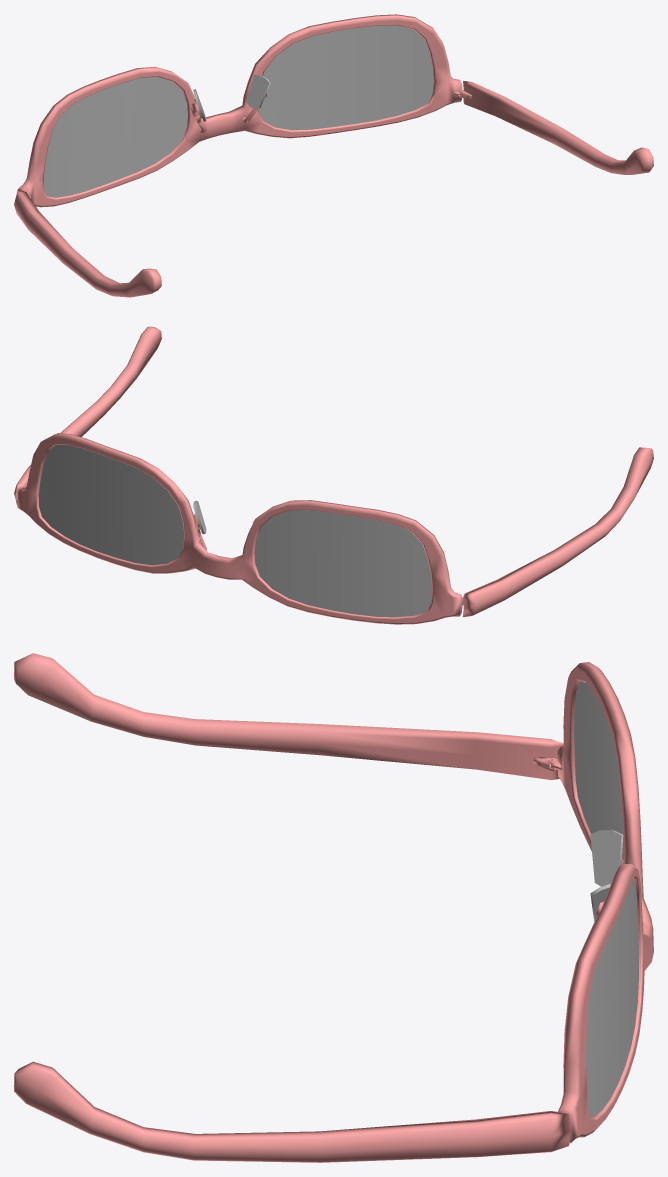
Rendered from kao_megane_02.dae.
3 renders of one model, top to bottom at view 1: azimuth 30°, elevation 25°; view 2: azimuth 150°, elevation 25°; view 3: azimuth 270°, elevation 25°, orthographic. The views are drawn at different scales.
Parts seen in each view (by area): view 1: o_glasses_typeD_lens_0, o_glasses_typeD_00_0; view 2: o_glasses_typeD_lens_0, o_glasses_typeD_00_0; view 3: o_glasses_typeD_00_0, o_glasses_typeD_lens_0.
Boxes of the visible parts, x1,y1,x2,y2 form: o_glasses_typeD_lens_0: (44,25,433,197); o_glasses_typeD_00_0: (14,14,653,297); o_glasses_typeD_lens_0: (38,444,432,617); o_glasses_typeD_00_0: (14,326,653,624); o_glasses_typeD_00_0: (14,653,653,1162); o_glasses_typeD_lens_0: (574,681,638,1117).
Size of the model in its own units: 0.2133 by 0.1353 by 0.0439.
